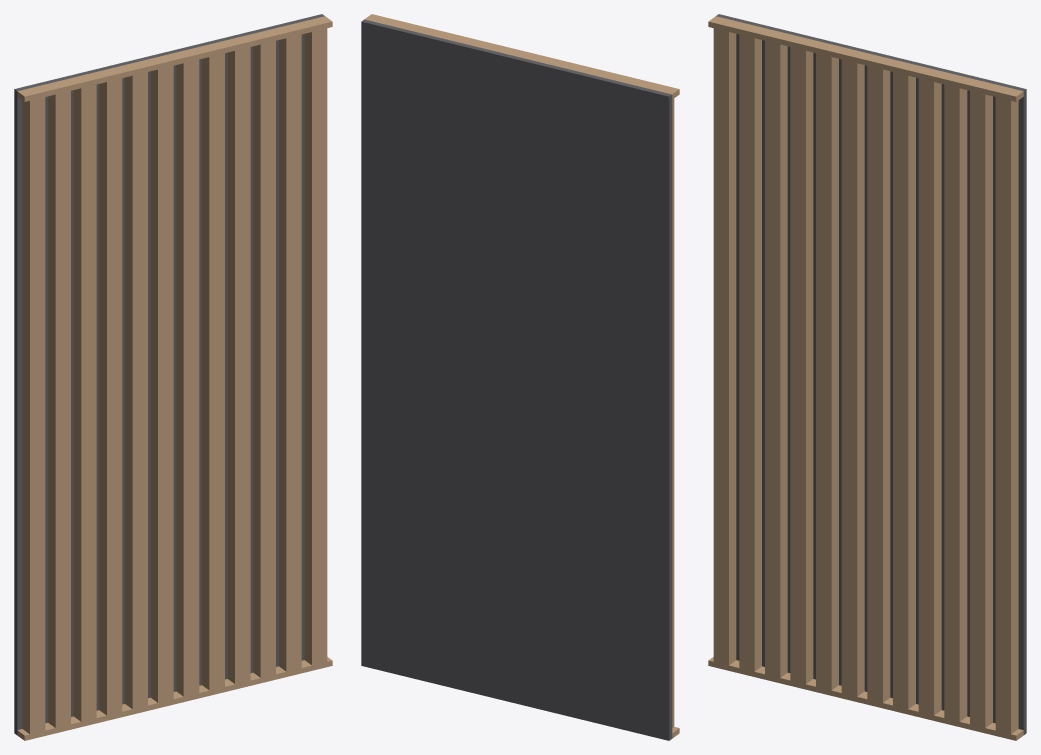
Rendered from Acoustic_Panel.fbx.
The picture shows the model from 3 angles, left to right: view 1: azimuth 30°, elevation 25°; view 2: azimuth 150°, elevation 25°; view 3: azimuth 330°, elevation 25°; orthographic projection.
Parts seen in each view (by area): view 1: Acoustic_Panel; view 2: Acoustic_Panel; view 3: Acoustic_Panel.
Part boxes in pixels (left/top/right/bottom): Acoustic_Panel: left=14, top=14, right=332, bottom=740; Acoustic_Panel: left=361, top=14, right=679, bottom=740; Acoustic_Panel: left=708, top=14, right=1026, bottom=740.
Size of the model in its own units: 1.2 by 2.4 by 0.07.
